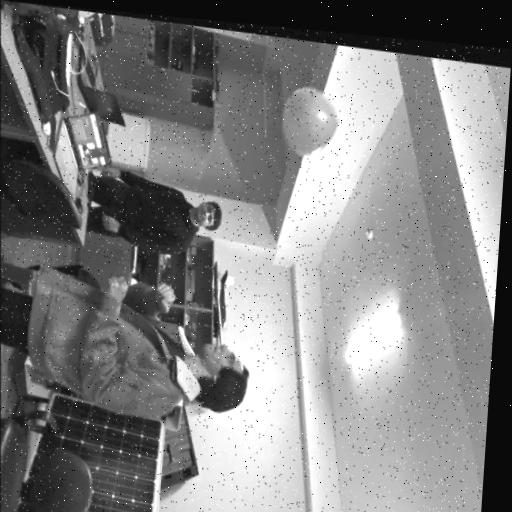balloon: (272, 83, 344, 159)
